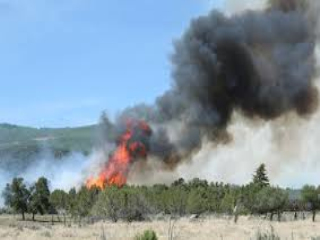fire: (85, 121, 152, 194)
smoke: (126, 15, 319, 141)
